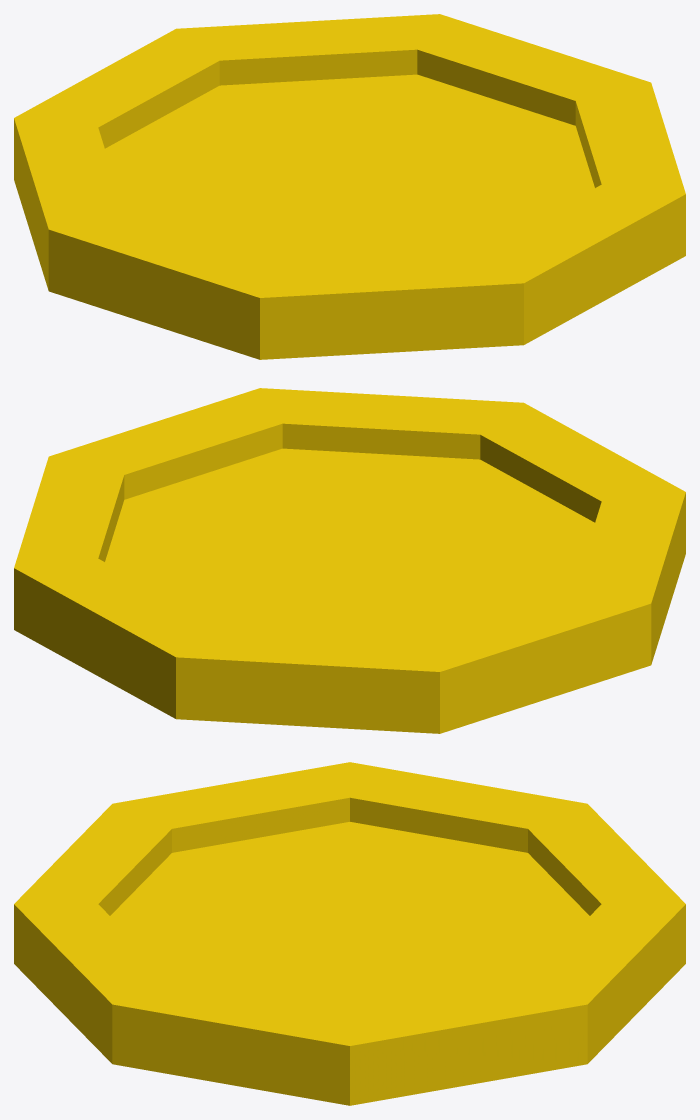
The model's file is Goldcoin.glb.
3 views of the same model, one above another, from view 1: azimuth 30°, elevation 25°; view 2: azimuth 150°, elevation 25°; view 3: azimuth 270°, elevation 25° (orthographic). The views are drawn at different scales.
Visible parts, largest first — view 1: Cylinder; view 2: Cylinder; view 3: Cylinder.
Boxes of the visible parts, x1,y1,x2,y2 form: Cylinder: [14, 14, 685, 359]; Cylinder: [14, 388, 685, 733]; Cylinder: [14, 762, 685, 1105].
Bounding box in the file's own units: 0.2738 × 0.0269 × 0.2738.
